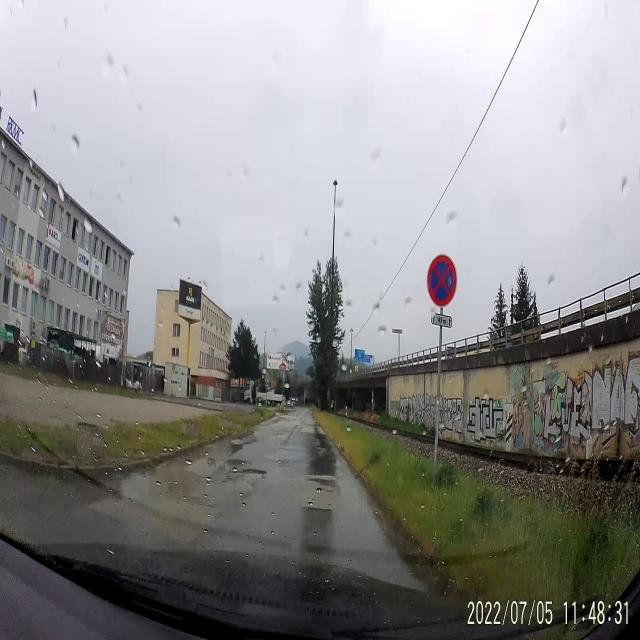Pothole: (224, 458, 268, 486), (302, 498, 336, 518), (230, 437, 248, 455), (206, 454, 216, 470)
